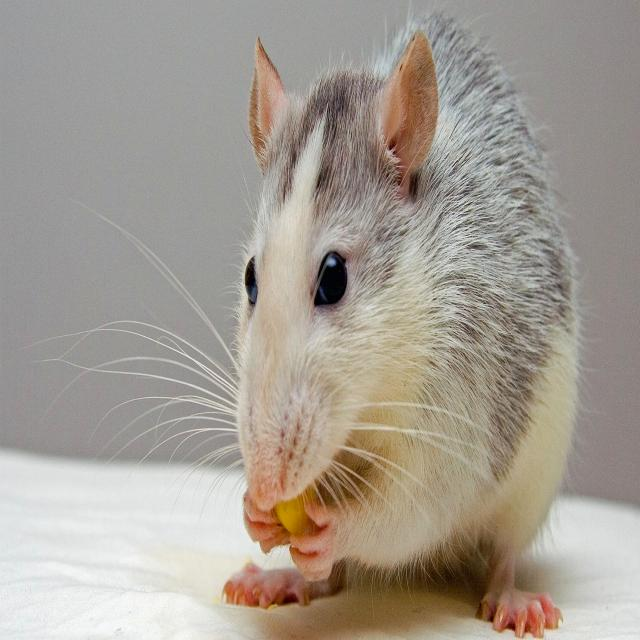rat: (46, 14, 579, 637)
